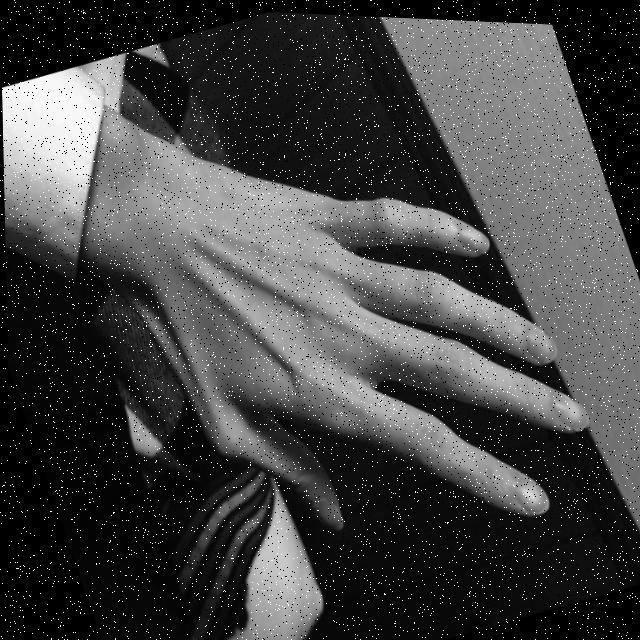no-gloves: (87, 64, 615, 616)
